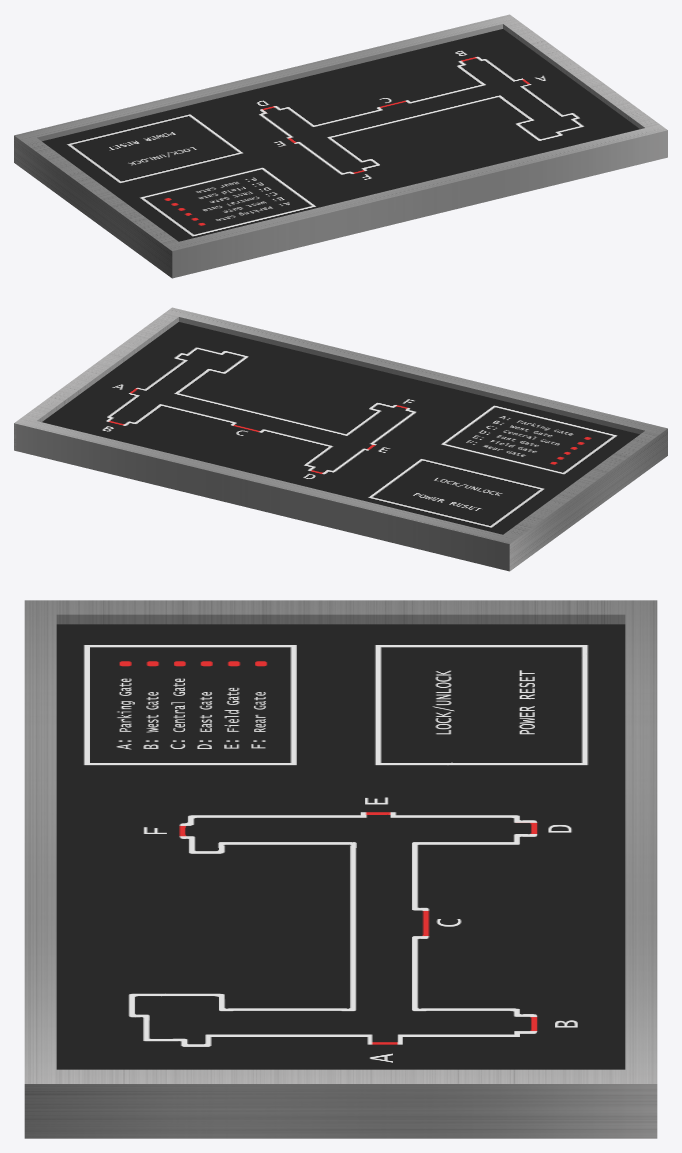
The model's file is SecurityControlPanel.fbx.
3 renders of one model, top to bottom at view 1: azimuth 30°, elevation 25°; view 2: azimuth 150°, elevation 25°; view 3: azimuth 270°, elevation 25°, orthographic. The views are drawn at different scales.
Visible parts, largest first — view 1: Control_Panel; view 2: Control_Panel; view 3: Control_Panel.
Part boxes in pixels (x1,y1,x2,y2): Control_Panel: [14, 14, 667, 278]; Control_Panel: [14, 307, 667, 571]; Control_Panel: [24, 600, 657, 1138].
Size of the model in its own units: 19 by 1 by 10.5.
Materials: 2 (2 with a texture image).
